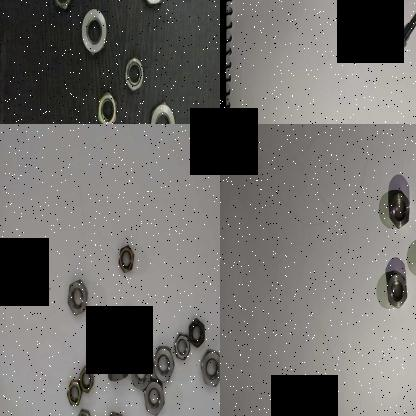Bolts: (396, 2, 416, 51)
NUTS: (77, 8, 109, 60), (91, 82, 122, 124), (150, 339, 178, 385), (386, 187, 414, 231), (124, 48, 146, 98), (129, 348, 153, 393), (384, 270, 410, 310), (66, 276, 90, 318), (145, 94, 178, 124), (142, 379, 166, 416), (199, 349, 220, 391), (104, 354, 132, 384), (186, 314, 208, 350), (172, 332, 194, 362), (116, 242, 135, 274), (66, 378, 84, 410), (116, 310, 134, 340), (78, 365, 95, 393), (47, 0, 75, 14), (73, 406, 93, 416)
